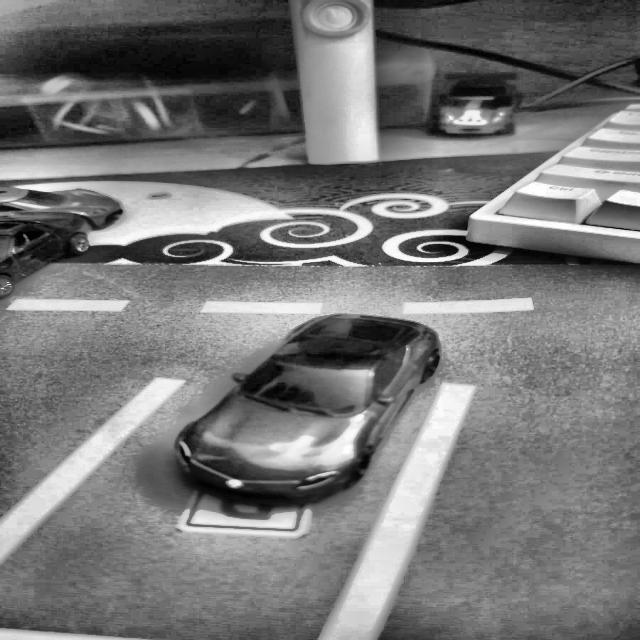car: (173, 313, 440, 505), (0, 208, 98, 301), (0, 177, 139, 233), (429, 73, 519, 137)
